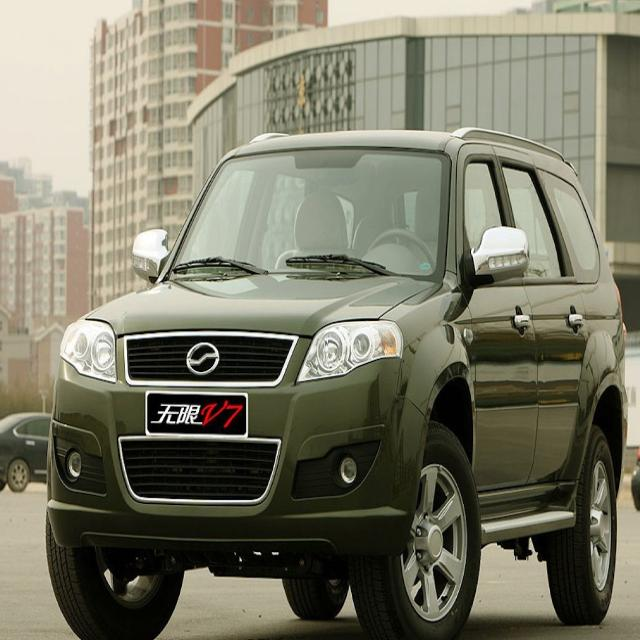door: (493, 147, 594, 516)
front_bumper: (48, 358, 425, 544)
front_glass: (172, 144, 452, 282)
front_left_side_door: (462, 138, 542, 533)
front_left_side_light: (297, 317, 402, 384)
front_left_side_mirror: (472, 225, 532, 286)
front_right_side_light: (60, 316, 120, 387)
front_right_side_mirror: (130, 225, 172, 290)
wheel: (362, 428, 481, 628), (46, 531, 181, 640), (556, 432, 618, 626)
